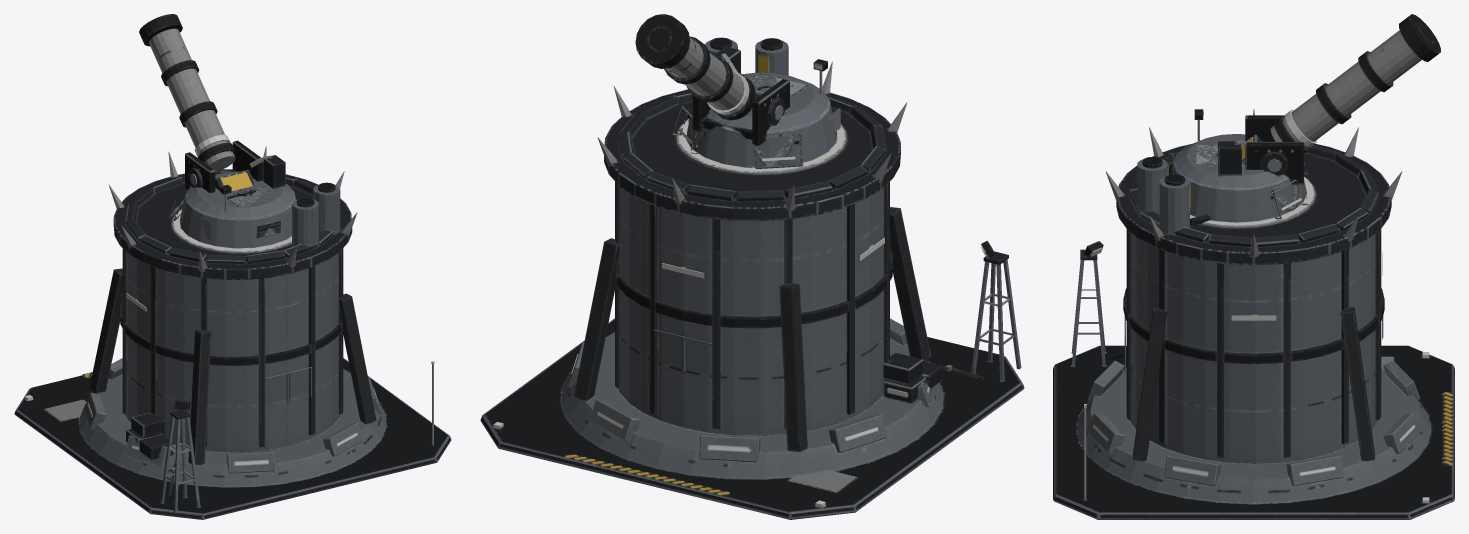
Rendered from chs_cataclysm.fbx.
3 views of the same model, side by side, from view 1: azimuth 30°, elevation 25°; view 2: azimuth 150°, elevation 25°; view 3: azimuth 270°, elevation 25° (orthographic). The views are drawn at different scales.
Parts seen in each view (by area): view 1: base_bar, turret_bar, base_glow_power_bar; view 2: base_bar, turret_bar, base_glow_power_bar, base_glow_running_bar; view 3: base_bar, turret_bar, base_glow_running_bar, base_glow_power_bar.
Boxes of the visible parts, x1,y1,x2,y2 form: base_bar: (14,146,451,519); turret_bar: (139,14,295,248); base_glow_power_bar: (173,209,291,251); base_bar: (480,37,1024,519); turret_bar: (635,14,840,168); base_glow_power_bar: (678,119,907,397); base_glow_running_bar: (493,238,929,507); base_bar: (1053,109,1454,519); turret_bar: (1168,14,1440,222); base_glow_running_bar: (1084,252,1429,503); base_glow_power_bar: (1190,177,1313,226).
Bounding box in the file's own units: 2336 × 2883 × 2336.
Materials: 2 (2 with a texture image).
